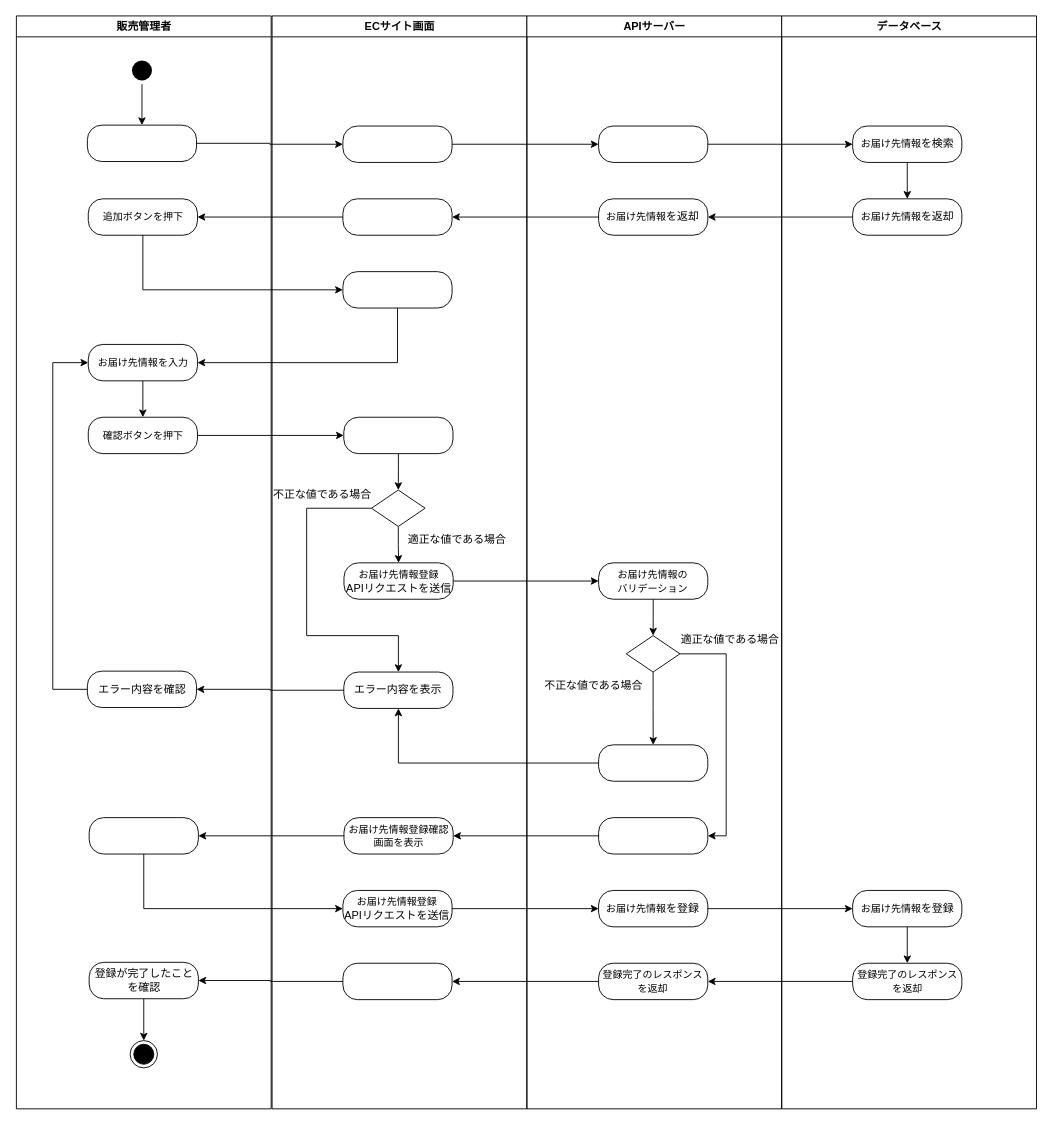
Some shapes in this 1052 by 1125 pixel diagram are drawn without their labels. The shapes that lost their labels are listed below. From the top down, each one's centre as x and y in pixels, then its label:
(x=141, y=143): お届け先情報画面に アクセス
(x=397, y=143): お届け先情報 取得 APIリクエストを送信
(x=653, y=143): お届け先情報 を取得
(x=397, y=216): お届け先情報 画面を 表示
(x=397, y=289): お届け先情報登録 画面を 表示
(x=398, y=435): 入力値の バリデーション
(x=653, y=762): エラーを返却
(x=143, y=835): 登録ボタンを押下
(x=653, y=835): バリデーション結果を返却
(x=397, y=981): お届け先情報登録完了 画面に登録 完了の メッセージを表示
